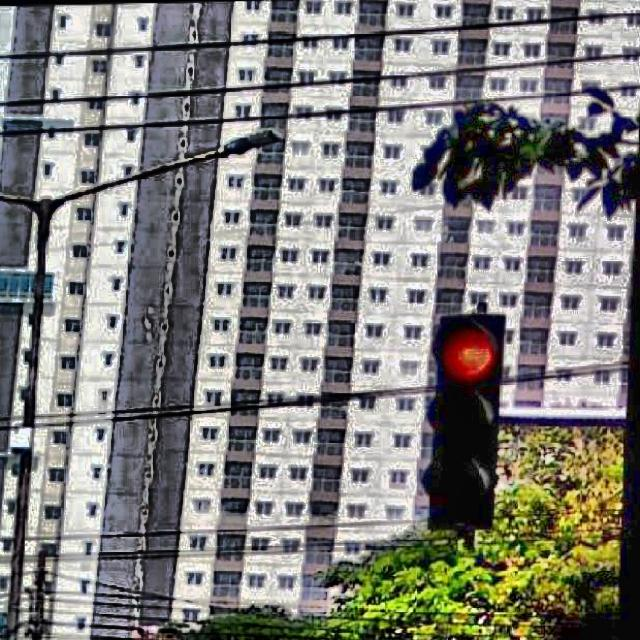red: (423, 311, 511, 531)
